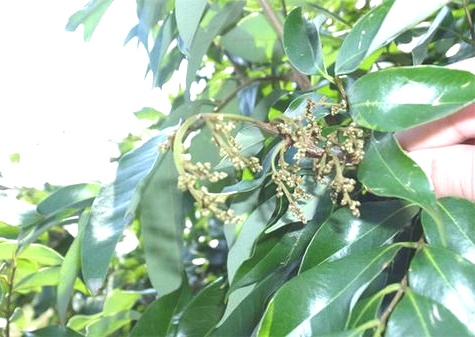Anthracnose: (154, 107, 375, 224)
